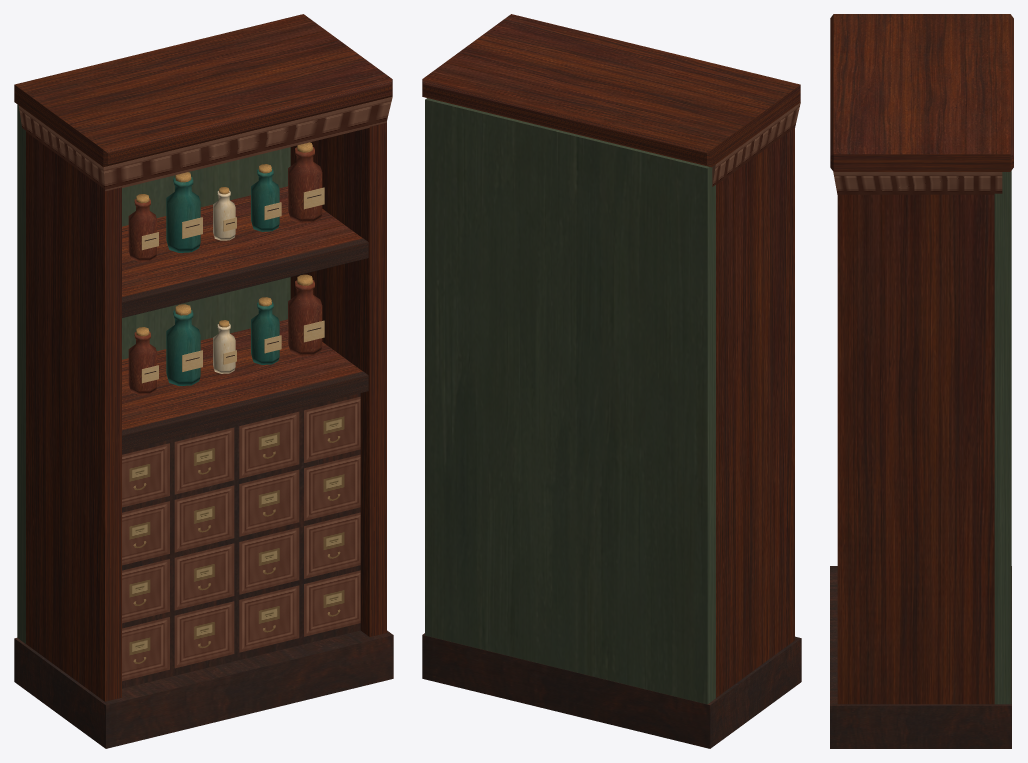
The model's file is city1880-apothecary.gltf.
3 views of the same model, side by side, from view 1: azimuth 30°, elevation 25°; view 2: azimuth 150°, elevation 25°; view 3: azimuth 270°, elevation 25° (orthographic).
Visible parts, largest first — view 1: Apothecary drawer and bottle bay; view 2: Apothecary drawer and bottle bay; view 3: Apothecary drawer and bottle bay.
Boxes of the visible parts, x1,y1,x2,y2 form: Apothecary drawer and bottle bay: (14,14,393,748); Apothecary drawer and bottle bay: (422,14,801,748); Apothecary drawer and bottle bay: (830,14,1013,748).
Size of the model in its own units: 0.998 by 1.97 by 0.5525.
Materials: 2 (2 with a texture image).
